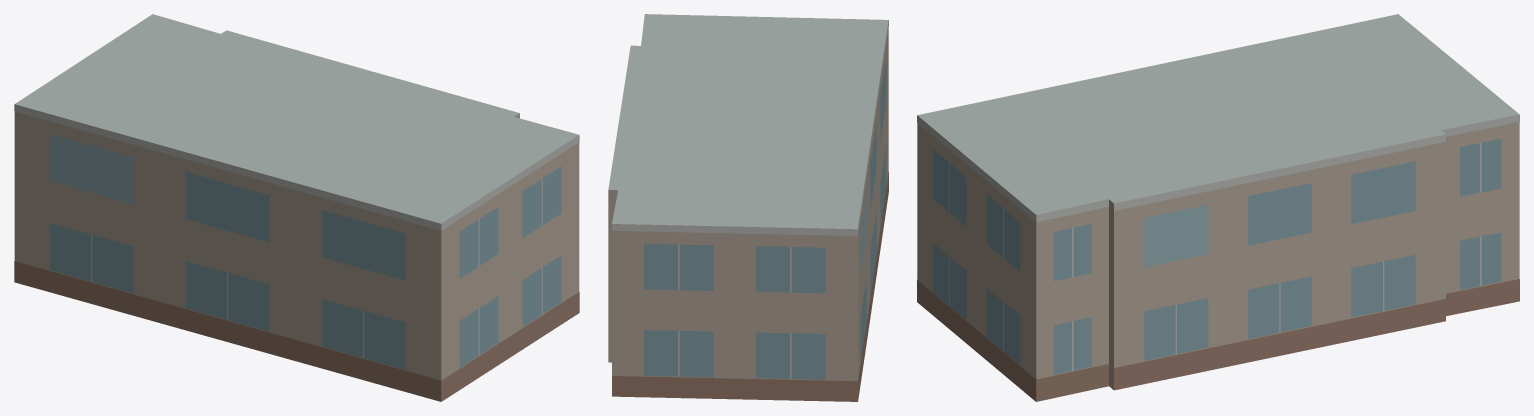
Rendered from survey-upis-32727370.glb.
3 views of the same model, side by side, from view 1: azimuth 30°, elevation 25°; view 2: azimuth 150°, elevation 25°; view 3: azimuth 270°, elevation 25° (orthographic). The views are drawn at different scales.
Parts seen in each view (by area): view 1: survey-upis-32727370.tmp; view 2: survey-upis-32727370.tmp; view 3: survey-upis-32727370.tmp.
Boxes of the visible parts, x1,y1,x2,y2 form: survey-upis-32727370.tmp: (14, 14, 579, 401); survey-upis-32727370.tmp: (608, 14, 888, 401); survey-upis-32727370.tmp: (917, 14, 1519, 401).
Bounding box in the file's own units: 14.08 × 6.1 × 17.83.
